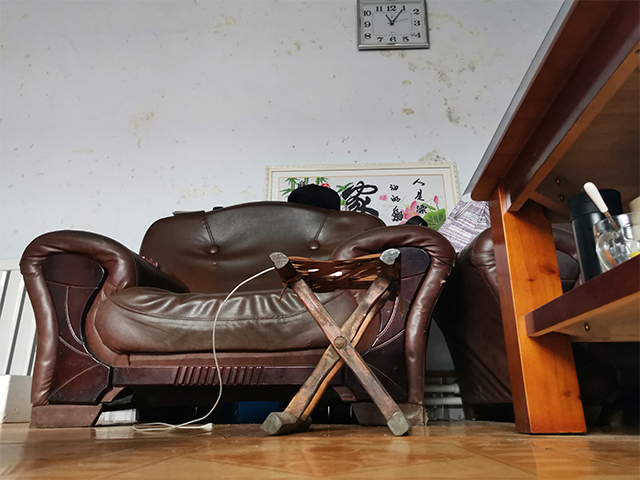sofa: (18, 198, 456, 429)
stool: (259, 246, 414, 438)
table: (461, 1, 640, 436)
wire: (130, 264, 337, 433)
